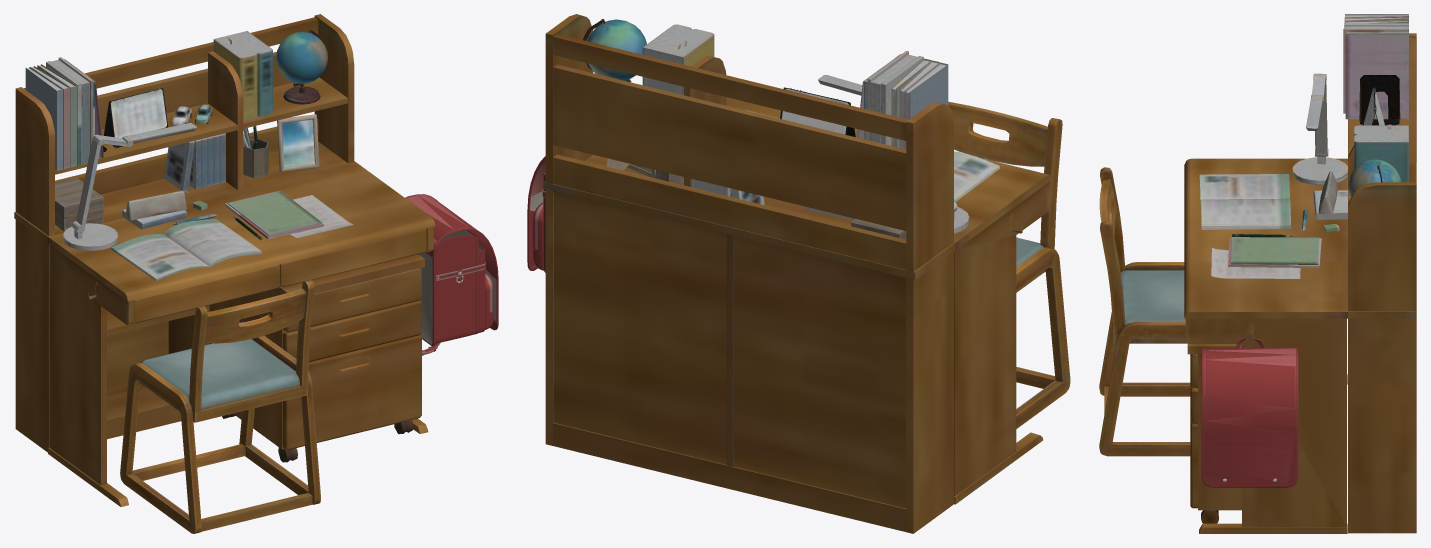
Rendered from study_desk.glb.
3 views of the same model, side by side, from view 1: azimuth 30°, elevation 25°; view 2: azimuth 150°, elevation 25°; view 3: azimuth 270°, elevation 25° (orthographic). The views are drawn at different scales.
Visible parts, largest first — view 1: study_desk; view 2: study_desk; view 3: study_desk.
Boxes of the visible parts, x1,y1,x2,y2 form: study_desk: (14,14,498,533); study_desk: (527,14,1070,533); study_desk: (1099,14,1416,533).
Size of the model in its own units: 1.25 by 1.13 by 0.871.
1 material, 1 textured.
